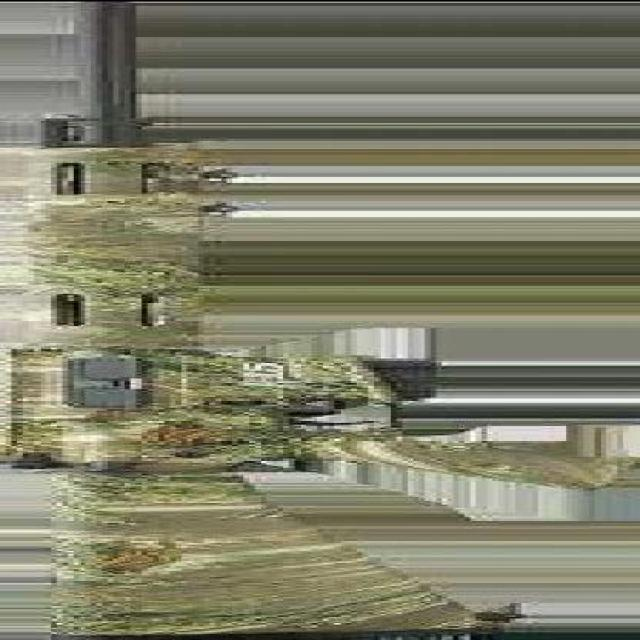rifle: (4, 4, 640, 640)
